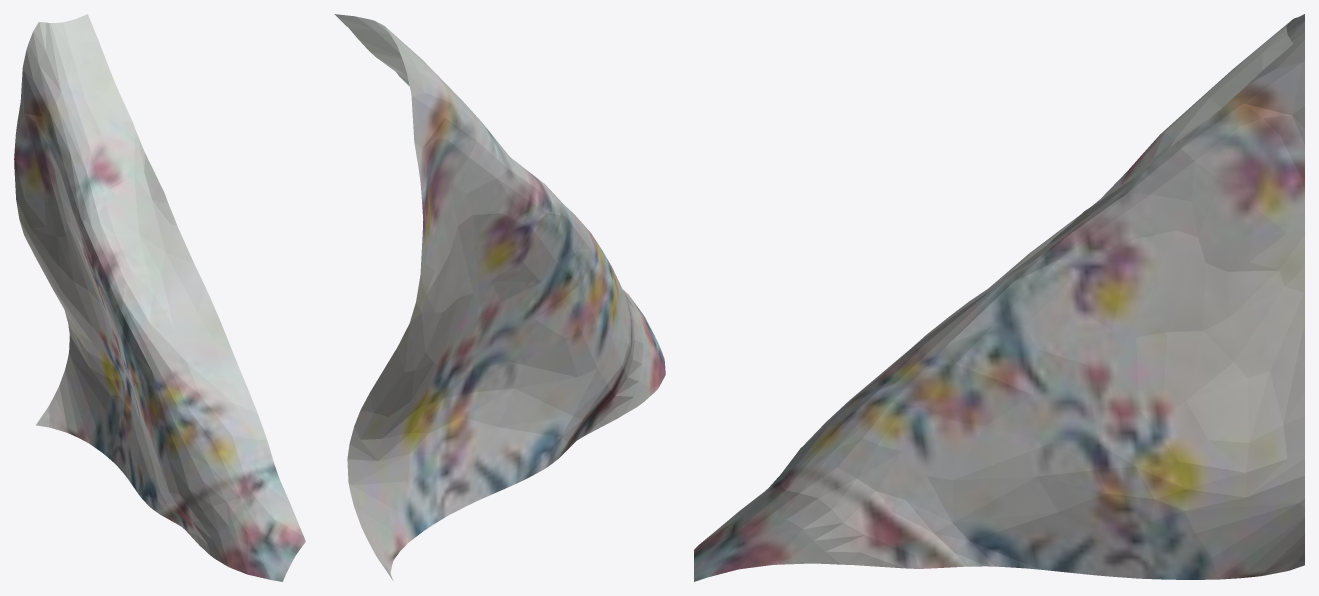
3 renders of one model, left to right at view 1: azimuth 30°, elevation 25°; view 2: azimuth 150°, elevation 25°; view 3: azimuth 270°, elevation 25°, orthographic. The views are drawn at different scales.
Visible parts, largest first — view 1: 091_W_Aya_100K_01; view 2: 091_W_Aya_100K_01; view 3: 091_W_Aya_100K_01.
Part boxes in pixels (x1,y1,x2,y2): 091_W_Aya_100K_01: (14,14,305,581); 091_W_Aya_100K_01: (334,14,665,580); 091_W_Aya_100K_01: (694,14,1304,581).
Size of the model in its own units: 15.71 by 85.74 by 85.74.
1 material, 1 textured.
